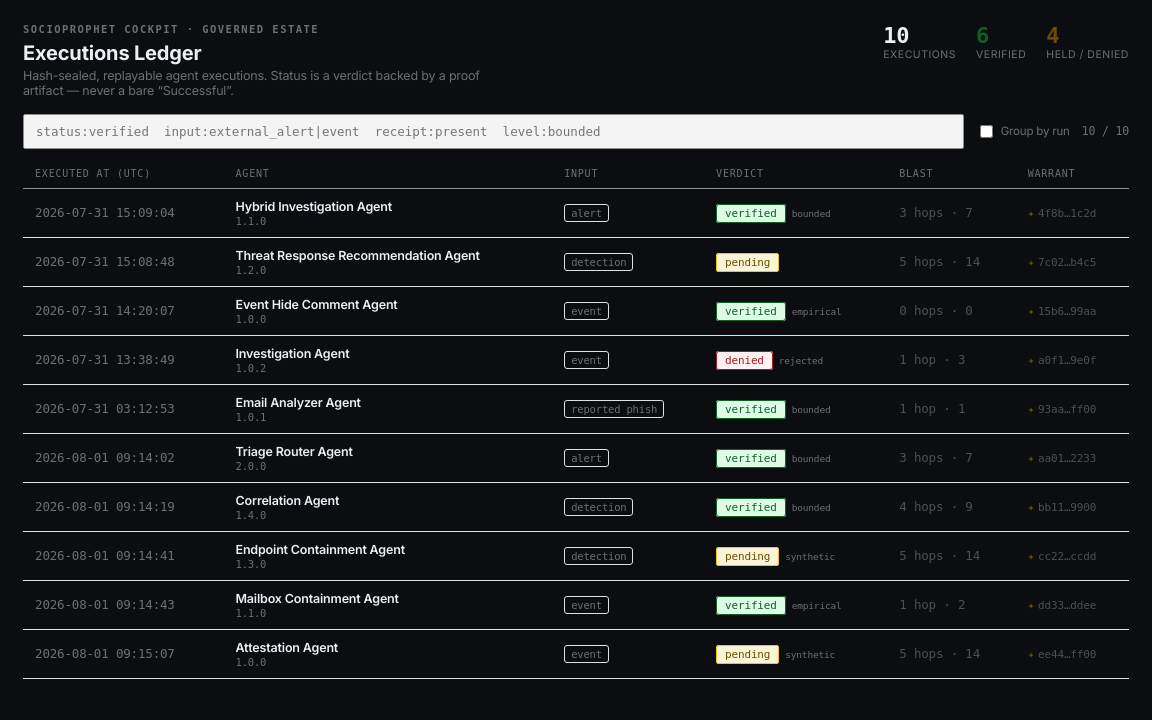
ExecutionsLedger › filters via the DSL
Replace the text in the field named "Filter executions" with "status:verified" at (493, 131), box [23,114,964,149]
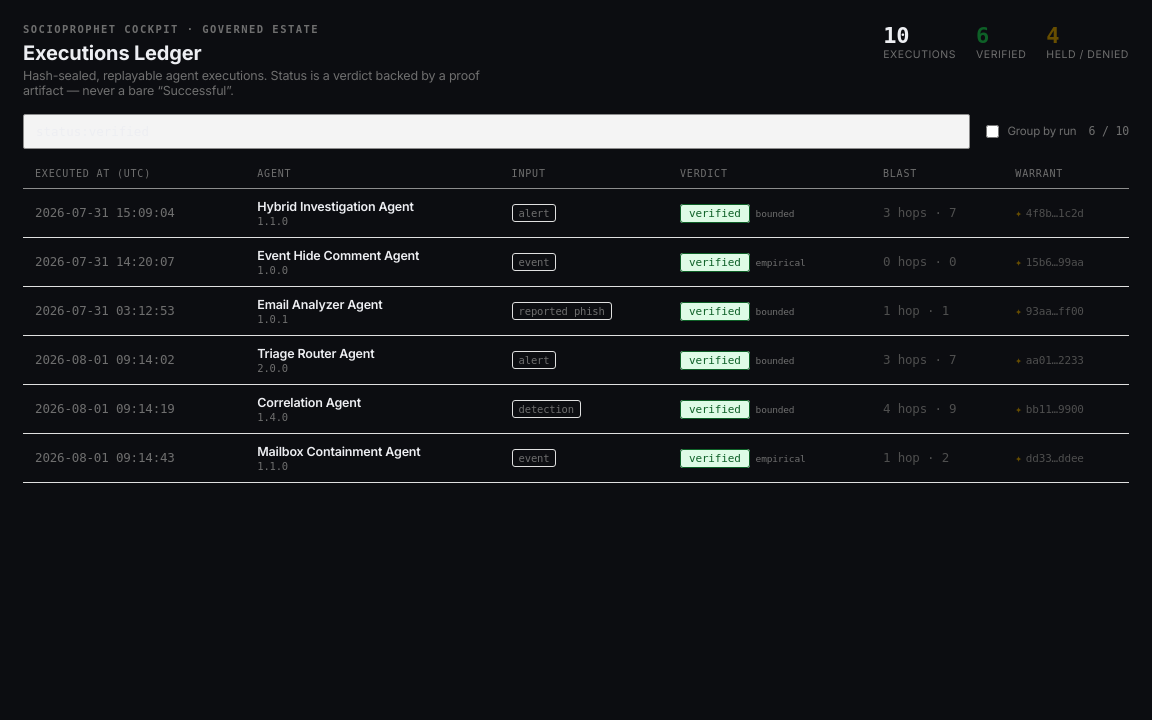
Result: the number of buttons with class "exec-row" is 6 at [23,188,1129,237]; [23,237,1129,286]; [23,286,1129,335]; [23,335,1129,384]; [23,384,1129,433]; [23,433,1129,482]
